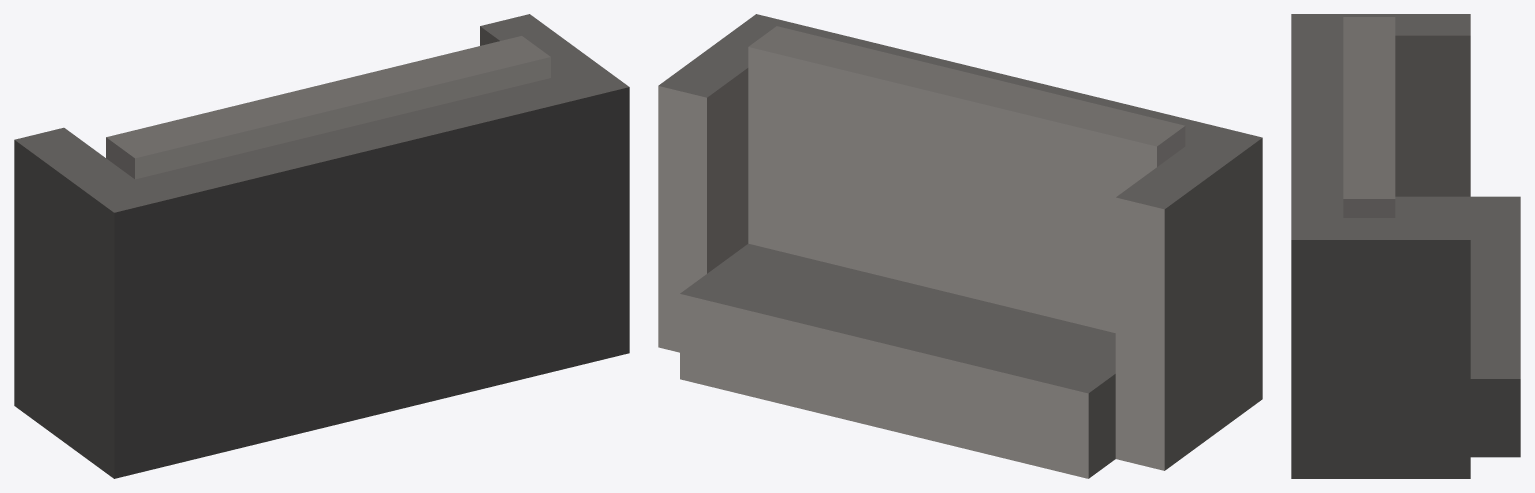
File: Couch2.glb
3 views of the same model, side by side, from view 1: azimuth 30°, elevation 25°; view 2: azimuth 150°, elevation 25°; view 3: azimuth 270°, elevation 25° (orthographic). The views are drawn at different scales.
Parts seen in each view (by area): view 1: SO_Couch_02; view 2: SO_Couch_02; view 3: SO_Couch_02.
Boxes of the visible parts, left/top/right/bottom form: SO_Couch_02: left=14, top=14, right=629, bottom=478; SO_Couch_02: left=658, top=14, right=1262, bottom=478; SO_Couch_02: left=1291, top=14, right=1520, bottom=478.
Size of the model in its own units: 2.88 by 1.53 by 1.23.
Materials: 1 (1 with a texture image).
